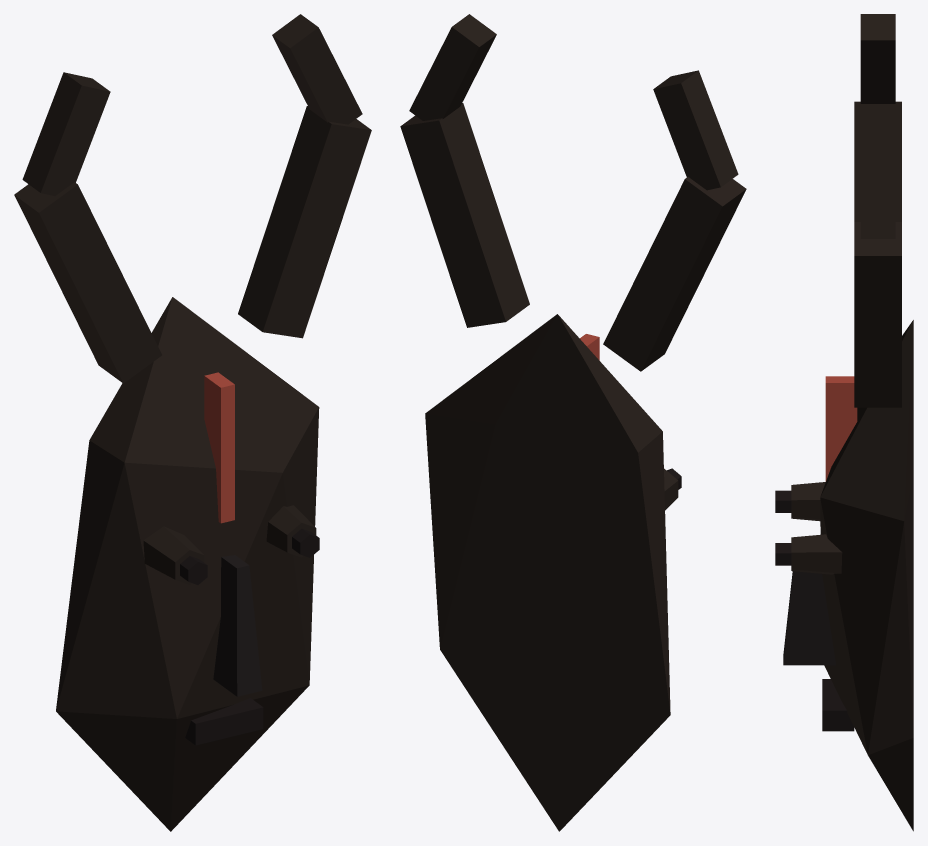
Rendered from wall-mask-13.glb.
The picture shows the model from 3 angles, left to right: view 1: azimuth 30°, elevation 25°; view 2: azimuth 150°, elevation 25°; view 3: azimuth 270°, elevation 25°; orthographic projection. The views are drawn at different scales.
Parts seen in each view (by area): view 1: wall_mask_13; view 2: wall_mask_13; view 3: wall_mask_13.
Boxes of the visible parts, bbox=[...] form: wall_mask_13: bbox=[14, 14, 371, 831]; wall_mask_13: bbox=[400, 14, 746, 831]; wall_mask_13: bbox=[775, 14, 913, 831].
Size of the model in its own units: 0.2322 by 0.5301 by 0.087.
